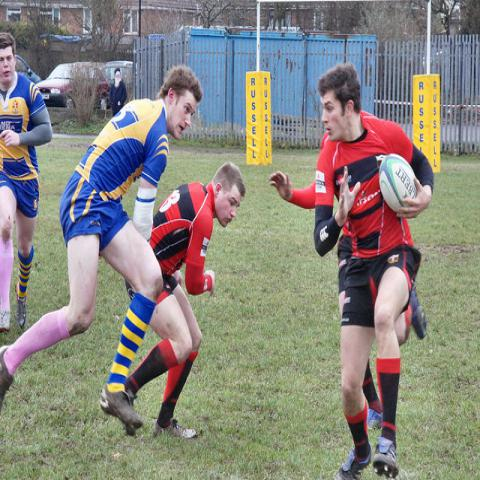car: (36, 61, 112, 109), (100, 55, 138, 99), (15, 55, 42, 84)
